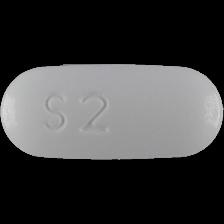63187-130: (0, 0, 224, 224)
